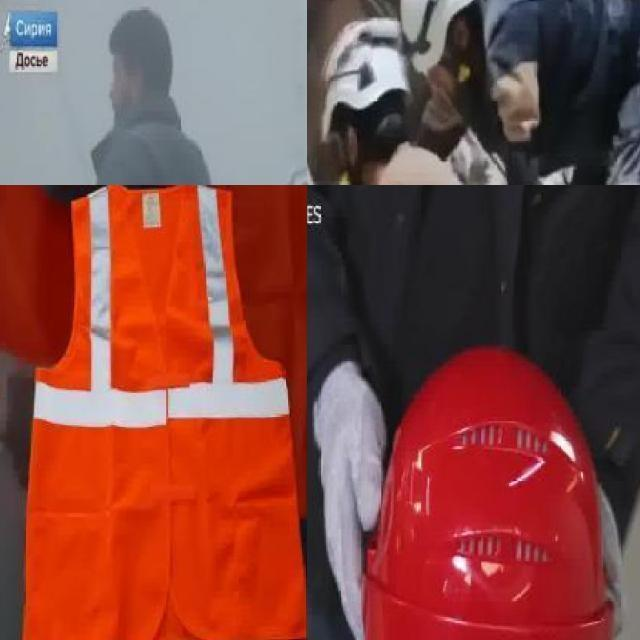apron: (314, 359, 388, 640), (589, 471, 630, 640)
